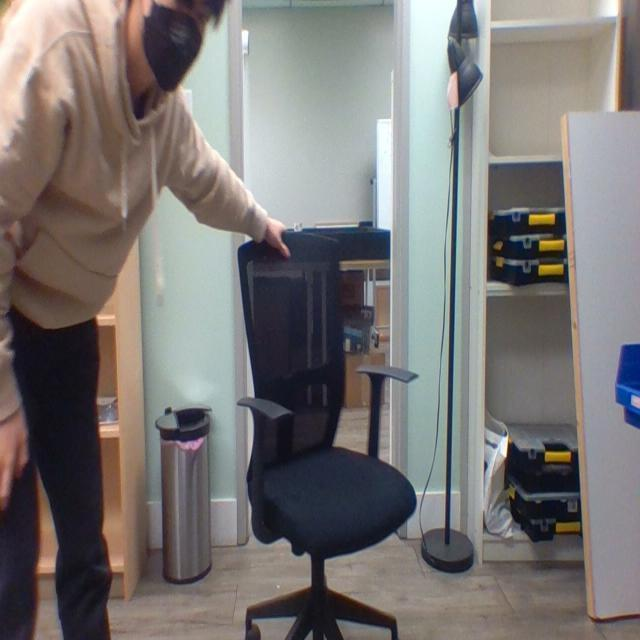chair: (217, 205, 443, 640)
